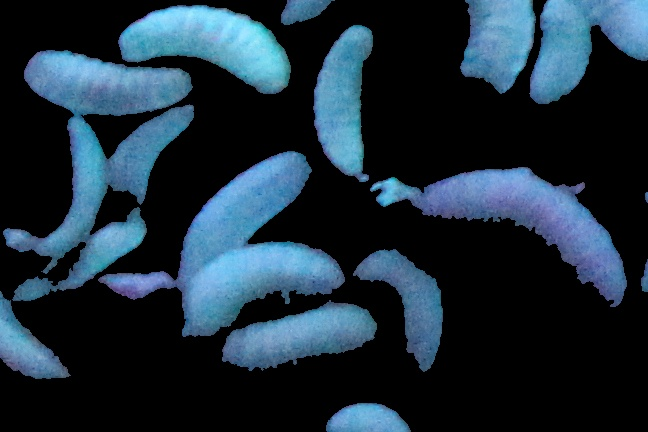larvae: (403, 163, 619, 308), (174, 154, 312, 270), (120, 3, 291, 96), (5, 116, 117, 256), (176, 242, 344, 335), (219, 300, 376, 383), (13, 209, 148, 302), (21, 50, 199, 113), (356, 248, 442, 373), (311, 27, 374, 178), (108, 104, 196, 208), (457, 1, 533, 103), (528, 1, 589, 106), (312, 394, 420, 432)
